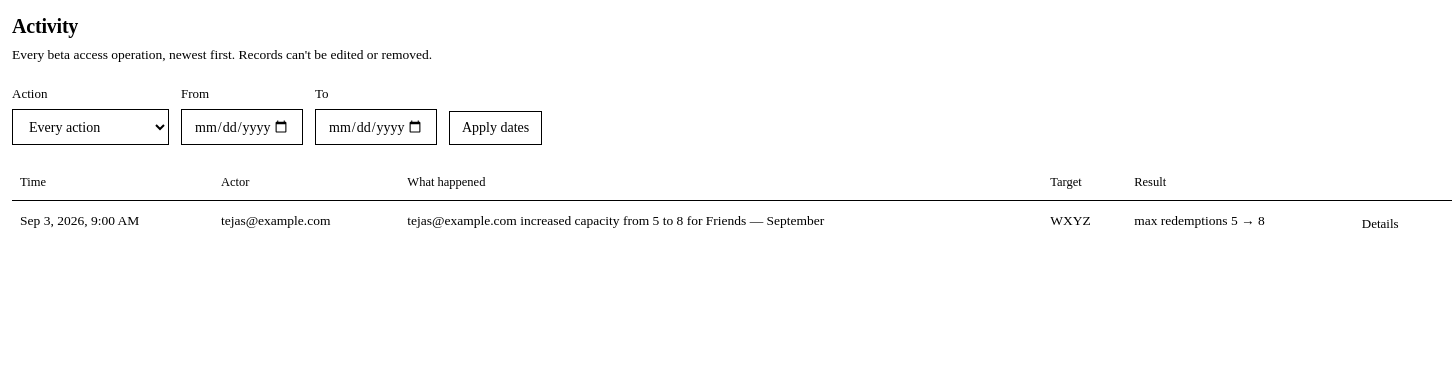
Test case: the activity log (admin_activity.md) › opens an event's recorded reason and before/after values
Click the button "Details" at (1380, 224), box [1352,210,1409,238]
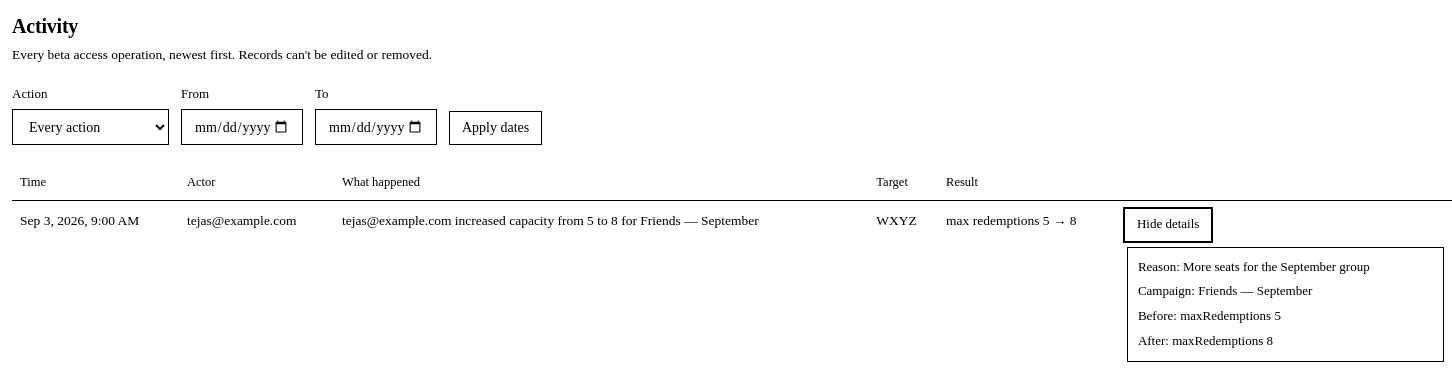
Expected: the text "max redemptions 5 → 8" is shown, [938,200,1119,374]
Result: the text "Reason: More seats for the September group" is shown at [1138,258,1370,274]
Click the button "Hide details" at (1168, 224), box [1127,210,1209,238]
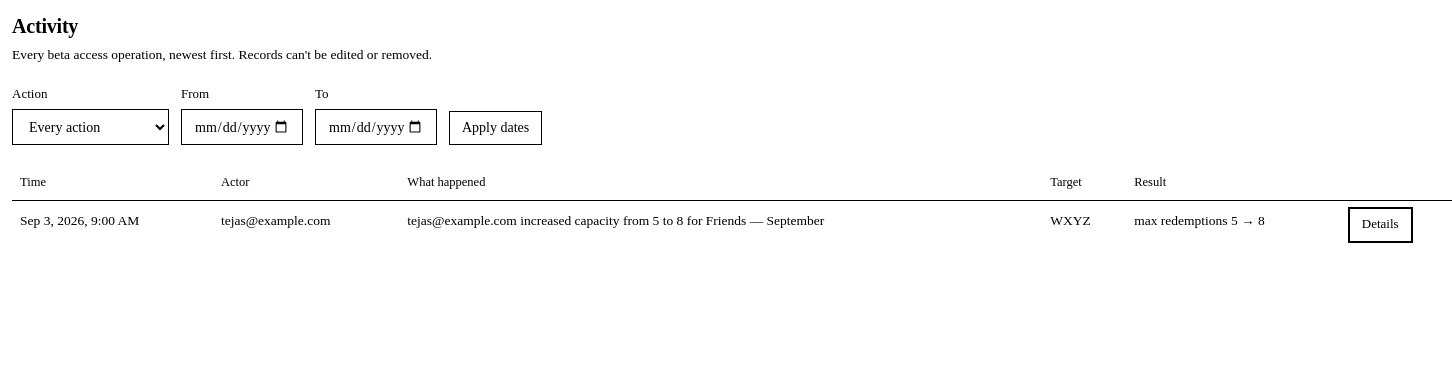
Result: the text "More seats for the September group" is gone
